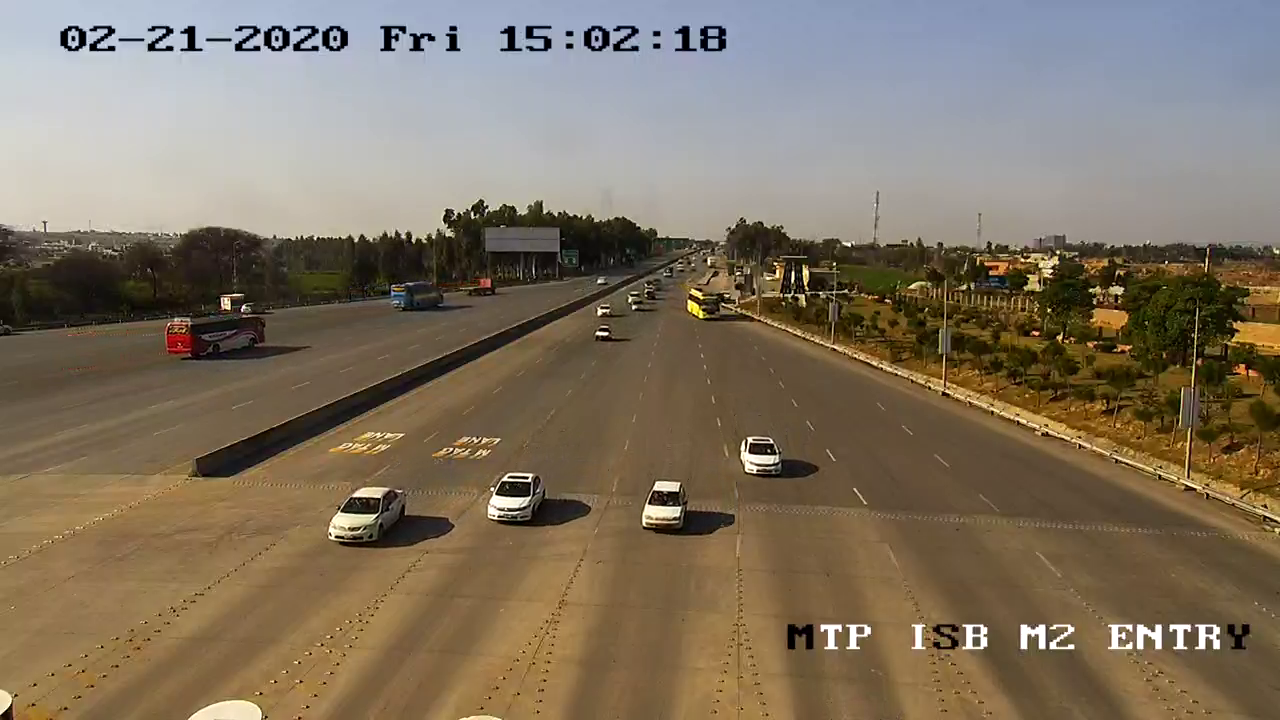f1: (317, 477, 414, 557), (479, 458, 555, 534), (634, 474, 697, 543), (731, 430, 791, 487)
